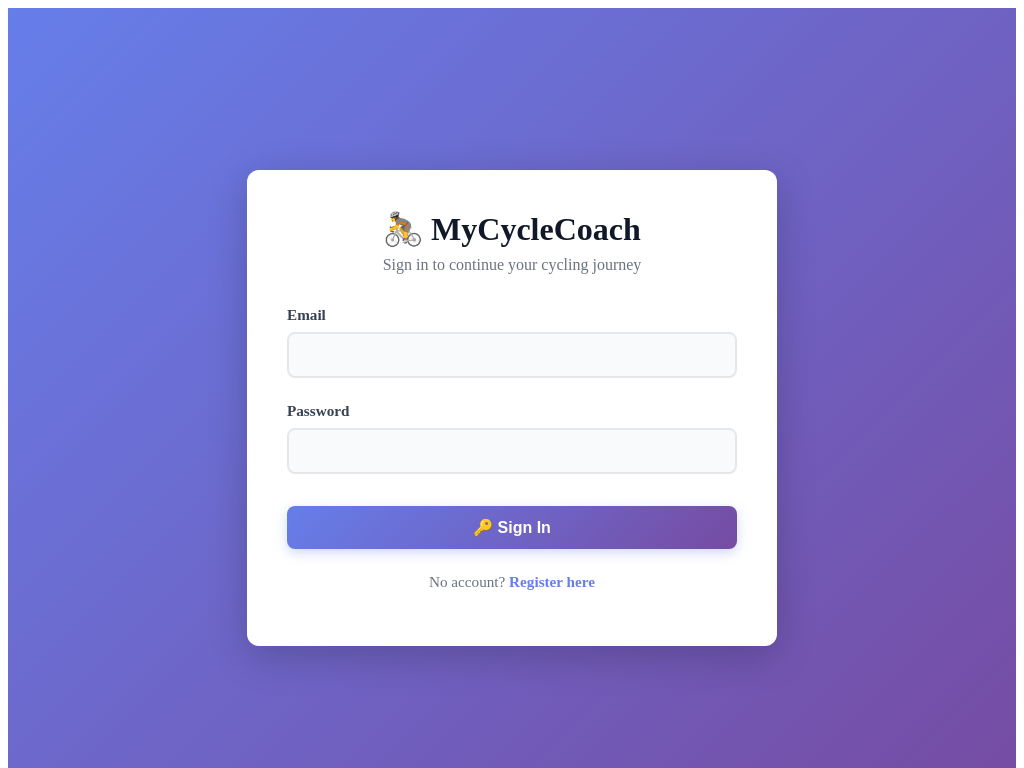
Test: LoginPage Component › shows validation error when email is empty
Click the button "🔑 Sign In": (512, 527) [287,506,737,549]
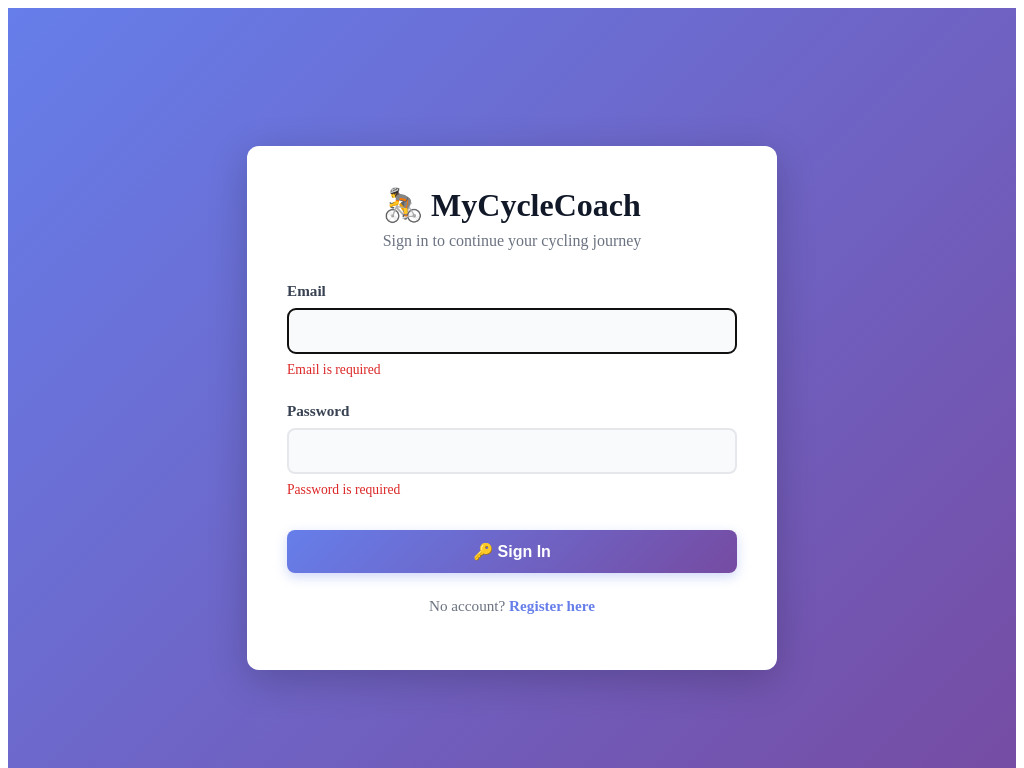
Expected: the text "Email is required" is shown, [287,362,381,377]
